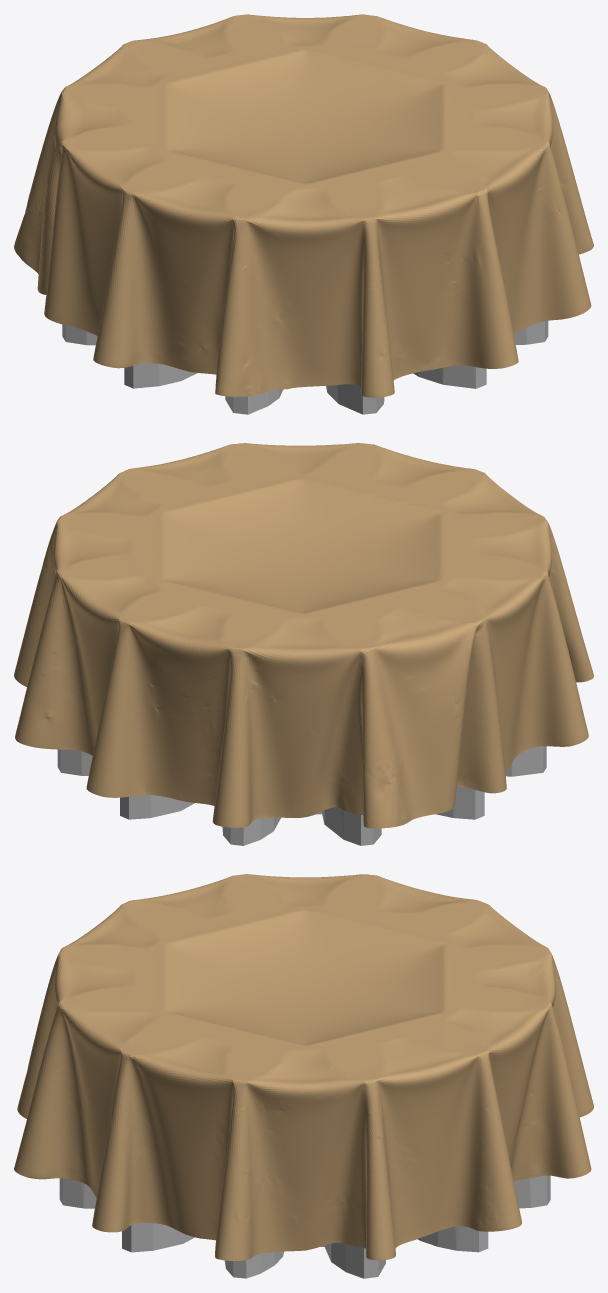
File: level_4.glb
3 renders of one model, top to bottom at view 1: azimuth 30°, elevation 25°; view 2: azimuth 150°, elevation 25°; view 3: azimuth 270°, elevation 25°, orthographic.
Visible parts, largest first — view 1: world, object.obj; view 2: world, object.obj; view 3: world, object.obj.
Part boxes in pixels (box(x1,y1,x2,y2)): world: box(14, 14, 593, 397); object.obj: box(62, 321, 548, 414); world: box(14, 443, 593, 828); object.obj: box(57, 746, 546, 845); world: box(14, 874, 593, 1260); object.obj: box(59, 1175, 550, 1278).
Bounding box in the file's own units: 0.4107 × 0.1552 × 0.4125.
